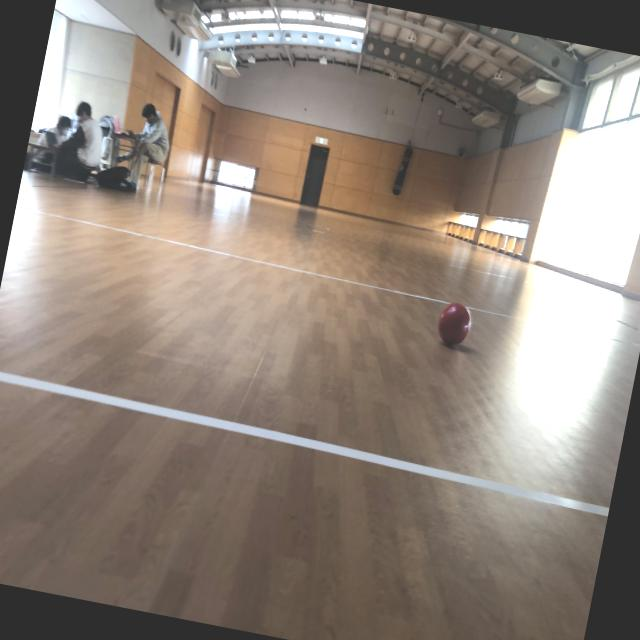red_ball: (434, 301, 474, 353)
